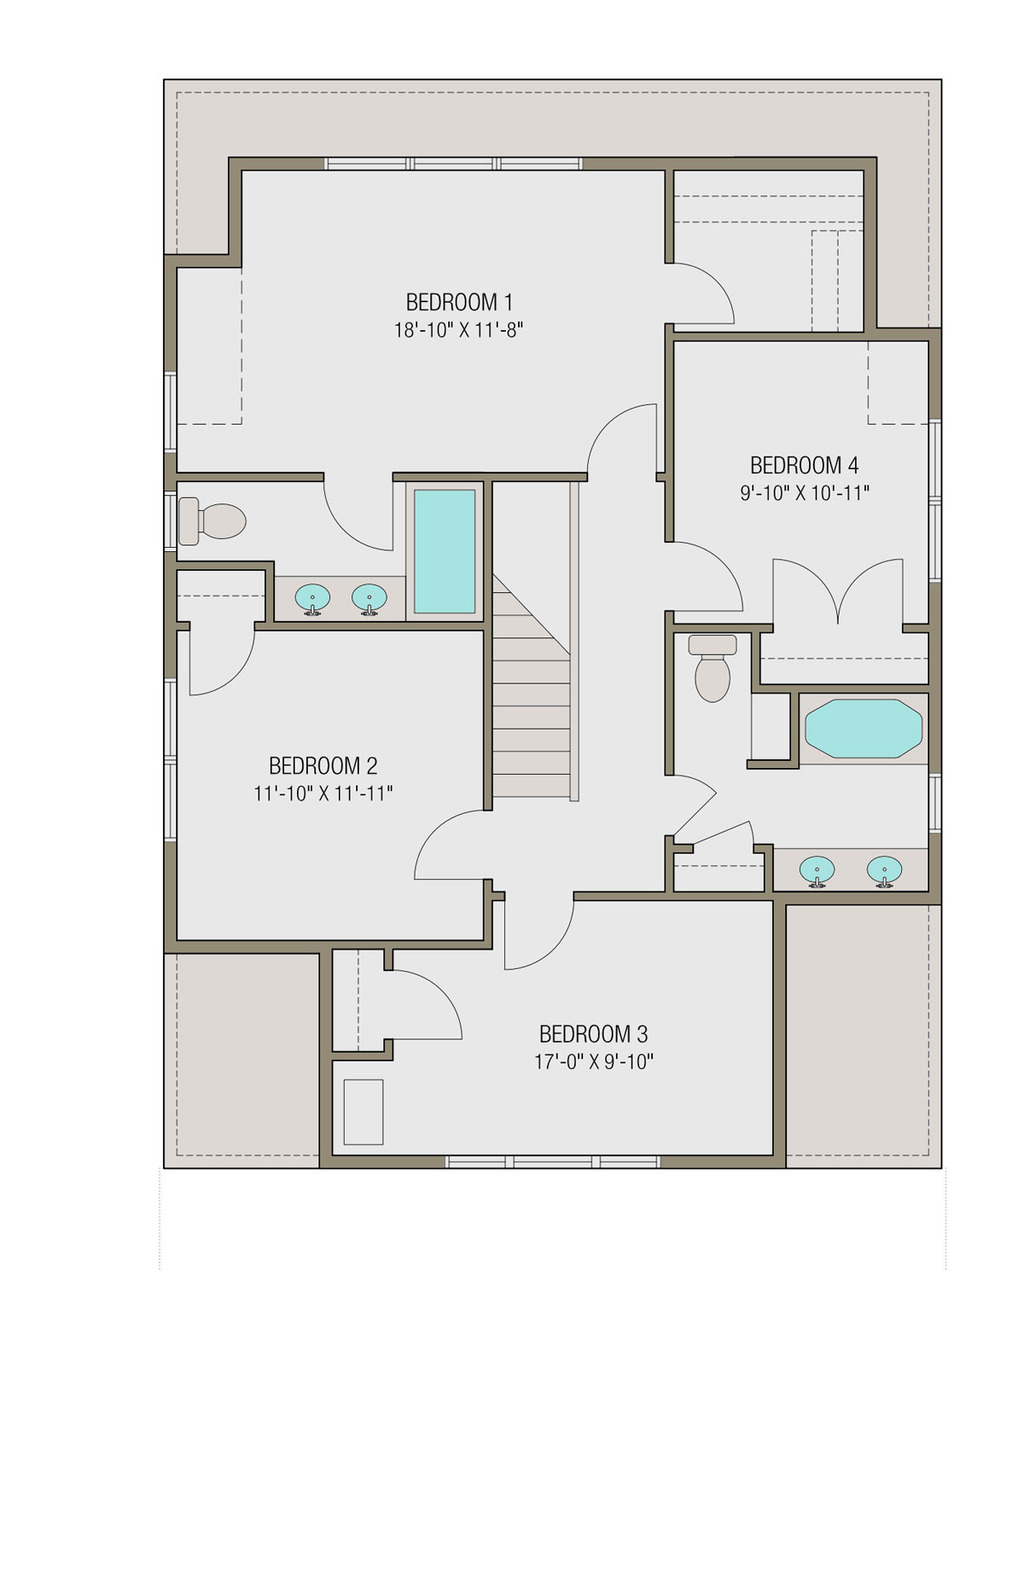door: (773, 554, 908, 639), (566, 404, 668, 489), (403, 801, 509, 882), (490, 887, 580, 972), (664, 251, 746, 339), (661, 535, 751, 613), (313, 468, 394, 554), (389, 965, 475, 1043), (184, 613, 258, 701), (661, 770, 717, 839)
large_sink: (180, 475, 265, 559), (670, 633, 746, 713)
small_sink: (775, 835, 928, 901), (280, 566, 403, 620)
stairs: (482, 468, 589, 806)
tub: (403, 473, 487, 623), (792, 685, 930, 775)
window: (325, 152, 584, 183), (430, 1153, 653, 1173), (928, 420, 949, 587), (161, 685, 184, 837), (161, 375, 183, 463)
